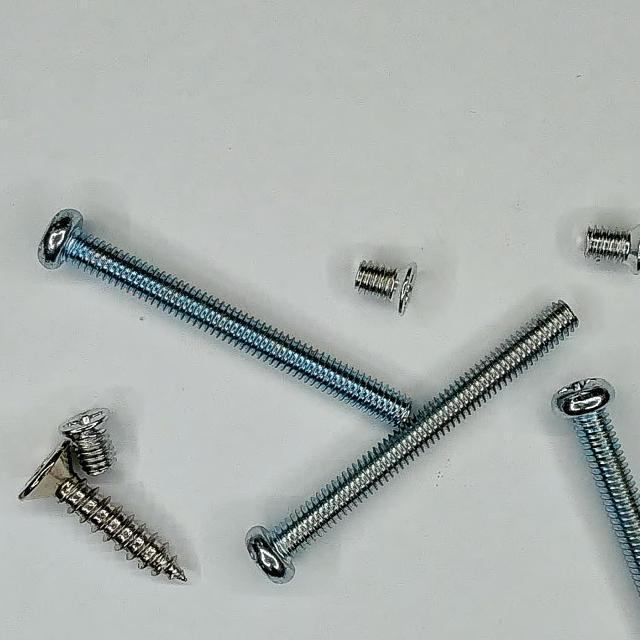Screw: (246, 301, 579, 584), (37, 209, 413, 426), (19, 440, 185, 582), (554, 379, 640, 590), (58, 409, 114, 476), (355, 260, 417, 314), (586, 225, 640, 274)
